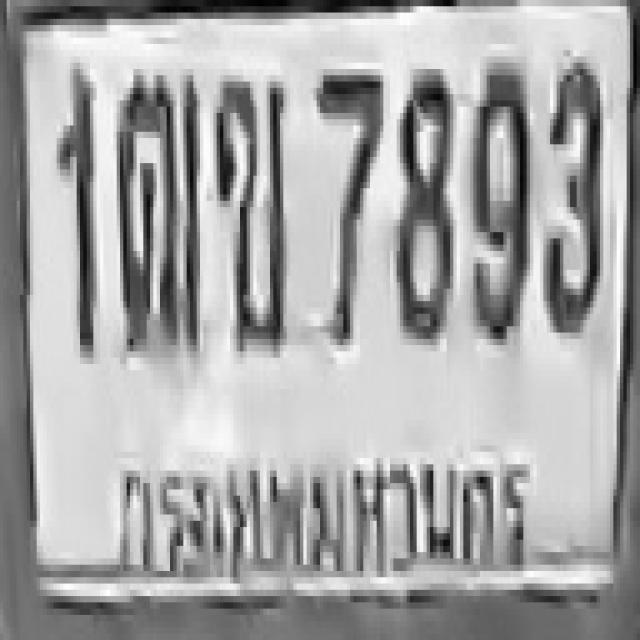1: (54, 66, 94, 354)
11KhorKhai: (212, 72, 285, 348)
27ThorPhuThao: (113, 69, 200, 351)
3: (540, 53, 600, 330)
7: (313, 66, 380, 342)
8: (390, 63, 450, 339)
9: (466, 56, 526, 339)
Bangkok: (108, 424, 535, 597)
